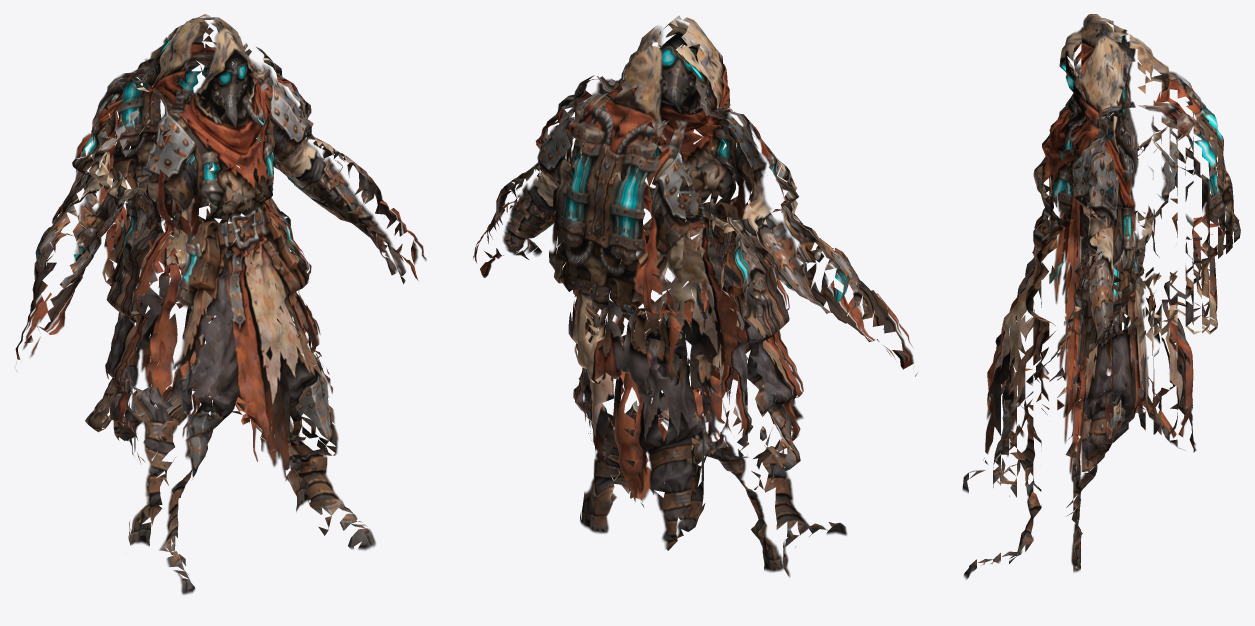
File: hero-multiview.glb
3 views of the same model, side by side, from view 1: azimuth 30°, elevation 25°; view 2: azimuth 150°, elevation 25°; view 3: azimuth 270°, elevation 25° (orthographic). The views are drawn at different scales.
Parts seen in each view (by area): view 1: geometry_0; view 2: geometry_0; view 3: geometry_0.
Boxes of the visible parts, x1,y1,x2,y2 form: geometry_0: (15, 14, 426, 594); geometry_0: (473, 15, 917, 577); geometry_0: (962, 14, 1240, 579).
Size of the model in its own units: 0.8279 by 1.03 by 0.4773.
Materials: 4 (4 with a texture image).
